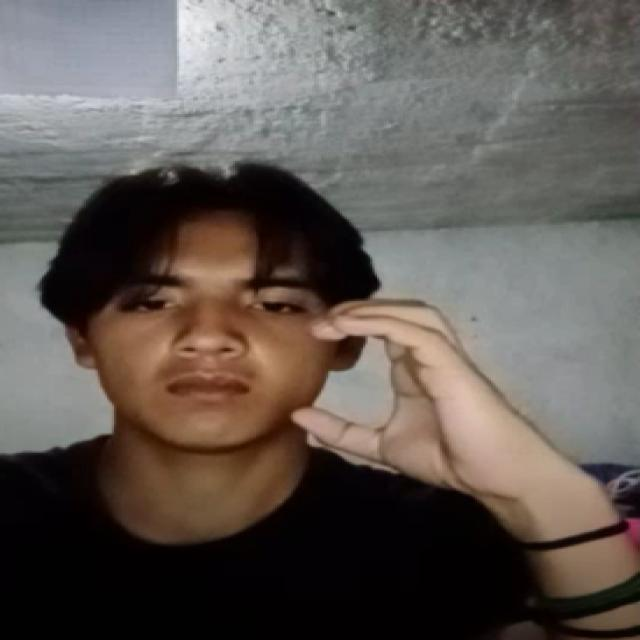C: (247, 280, 579, 514)
